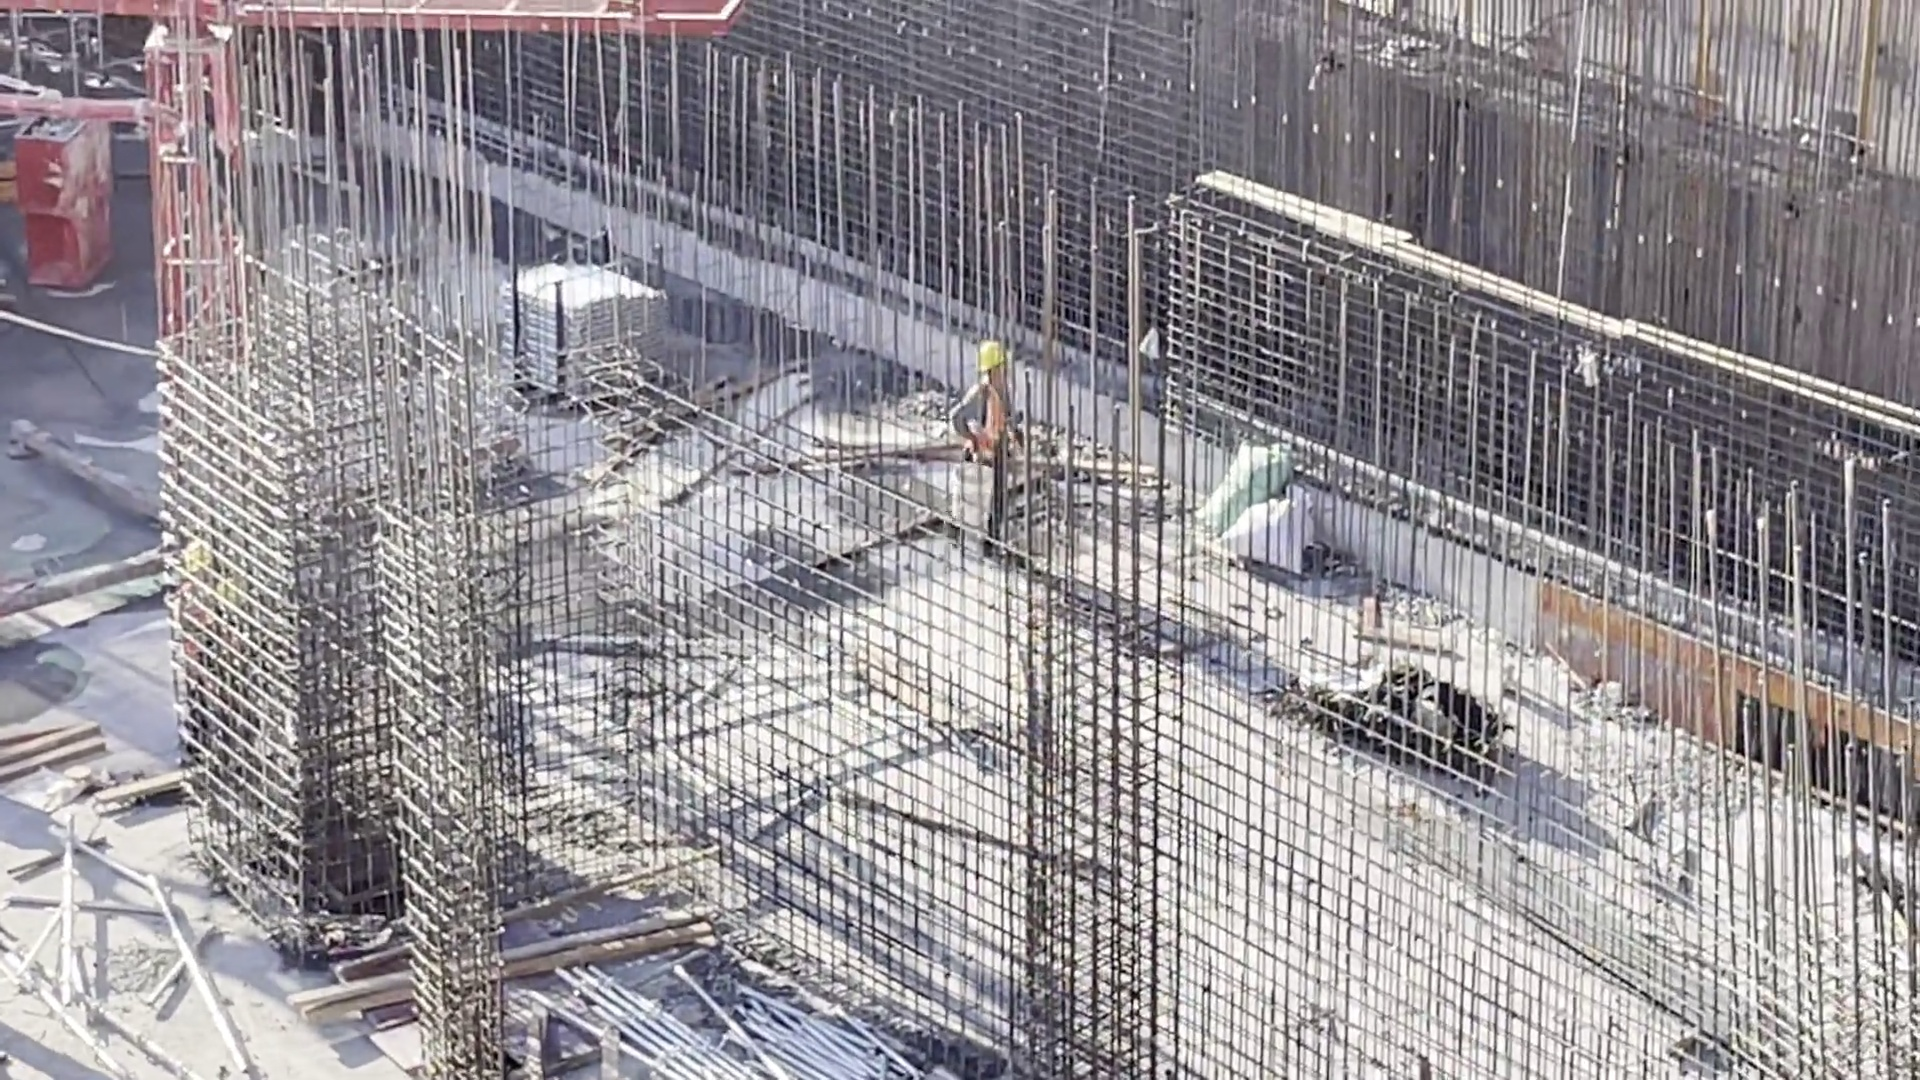helmet: (975, 335, 1011, 371)
person: (943, 327, 1041, 582)
scaffold: (623, 945, 881, 1080), (504, 246, 691, 414)
vest: (970, 389, 1011, 461)
